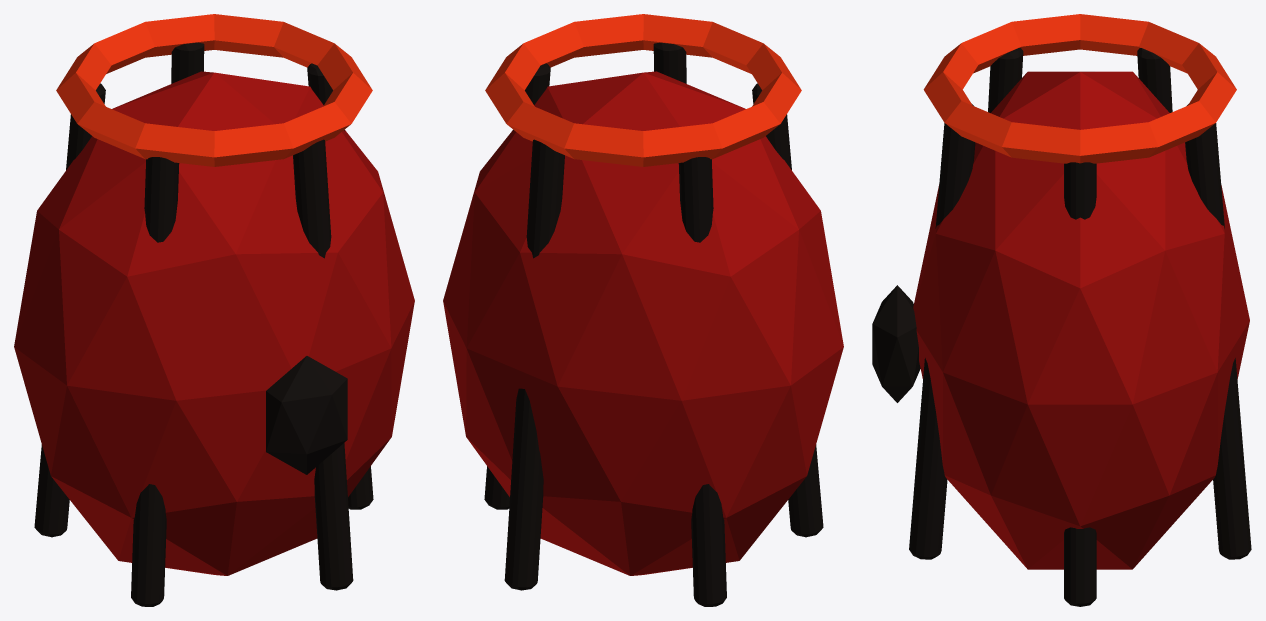
Rendered from cinder_ruby.obj.
3 views of the same model, side by side, from view 1: azimuth 30°, elevation 25°; view 2: azimuth 150°, elevation 25°; view 3: azimuth 270°, elevation 25° (orthographic).
Visible parts, largest first — view 1: CinderRuby_Core.001_MAT_Ruby, CinderRuby_Crown.001_MAT_Cinder, CinderRuby_Cage4.001_MAT_Char, CinderRuby_Coal.001_MAT_Char, CinderRuby_Cage3.001_MAT_Char, CinderRuby_Cage2.001_MAT_Char, CinderRuby_Cage0.001_MAT_Char, CinderRuby_Cage1.001_MAT_Char; view 2: CinderRuby_Core.001_MAT_Ruby, CinderRuby_Crown.001_MAT_Cinder, CinderRuby_Cage1.001_MAT_Char, CinderRuby_Cage2.001_MAT_Char, CinderRuby_Cage3.001_MAT_Char, CinderRuby_Cage0.001_MAT_Char, CinderRuby_Cage4.001_MAT_Char; view 3: CinderRuby_Core.001_MAT_Ruby, CinderRuby_Crown.001_MAT_Cinder, CinderRuby_Cage4.001_MAT_Char, CinderRuby_Cage1.001_MAT_Char, CinderRuby_Cage0.001_MAT_Char, CinderRuby_Coal.001_MAT_Char, CinderRuby_Cage2.001_MAT_Char, CinderRuby_Cage3.001_MAT_Char.
Boxes of the visible parts, x1,y1,x2,y2 form: CinderRuby_Core.001_MAT_Ruby: [14, 71, 414, 575]; CinderRuby_Crown.001_MAT_Cinder: [56, 14, 372, 166]; CinderRuby_Cage4.001_MAT_Char: [293, 139, 353, 590]; CinderRuby_Coal.001_MAT_Char: [266, 356, 347, 474]; CinderRuby_Cage3.001_MAT_Char: [131, 157, 179, 606]; CinderRuby_Cage2.001_MAT_Char: [34, 83, 105, 537]; CinderRuby_Cage0.001_MAT_Char: [307, 63, 373, 509]; CinderRuby_Cage1.001_MAT_Char: [171, 42, 204, 83]; CinderRuby_Core.001_MAT_Ruby: [443, 71, 843, 575]; CinderRuby_Crown.001_MAT_Cinder: [485, 14, 801, 166]; CinderRuby_Cage1.001_MAT_Char: [504, 139, 564, 590]; CinderRuby_Cage2.001_MAT_Char: [678, 157, 726, 606]; CinderRuby_Cage3.001_MAT_Char: [752, 83, 823, 537]; CinderRuby_Cage0.001_MAT_Char: [484, 63, 550, 509]; CinderRuby_Cage4.001_MAT_Char: [653, 42, 686, 83]; CinderRuby_Core.001_MAT_Ruby: [913, 71, 1249, 569]; CinderRuby_Crown.001_MAT_Cinder: [923, 14, 1236, 163]; CinderRuby_Cage4.001_MAT_Char: [909, 103, 975, 559]; CinderRuby_Cage1.001_MAT_Char: [1185, 104, 1251, 559]; CinderRuby_Cage0.001_MAT_Char: [1064, 162, 1096, 606]; CinderRuby_Coal.001_MAT_Char: [872, 285, 920, 402]; CinderRuby_Cage2.001_MAT_Char: [1137, 48, 1172, 112]; CinderRuby_Cage3.001_MAT_Char: [988, 48, 1023, 112].
Size of the model in its own units: 1.22 by 1.68 by 1.16.
